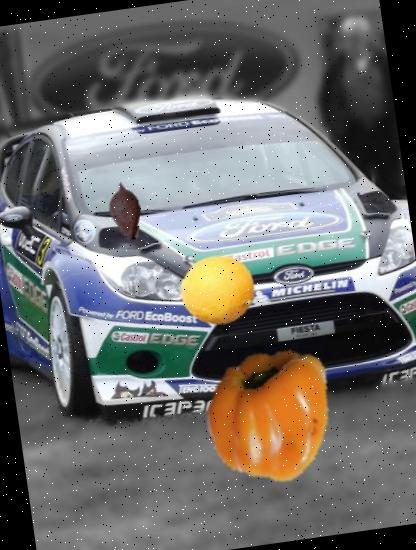Cantaloupe: (176, 248, 260, 332)
Pepper: (192, 332, 352, 492)
Salak: (92, 177, 160, 246)
